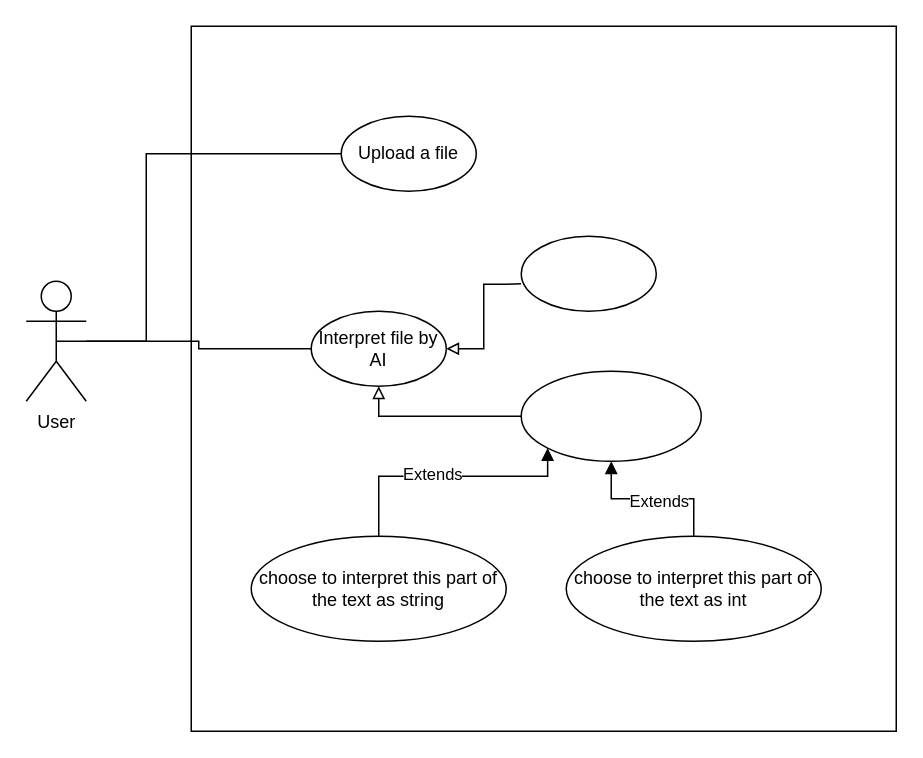
Image size: 923x758. Some labels were removed from this diagram. The centre of each missing label's shape, as x and y in pixels:
"Interpret whole file" goes at (588,273).
"select parts to be interpreted" goes at (610,415).
